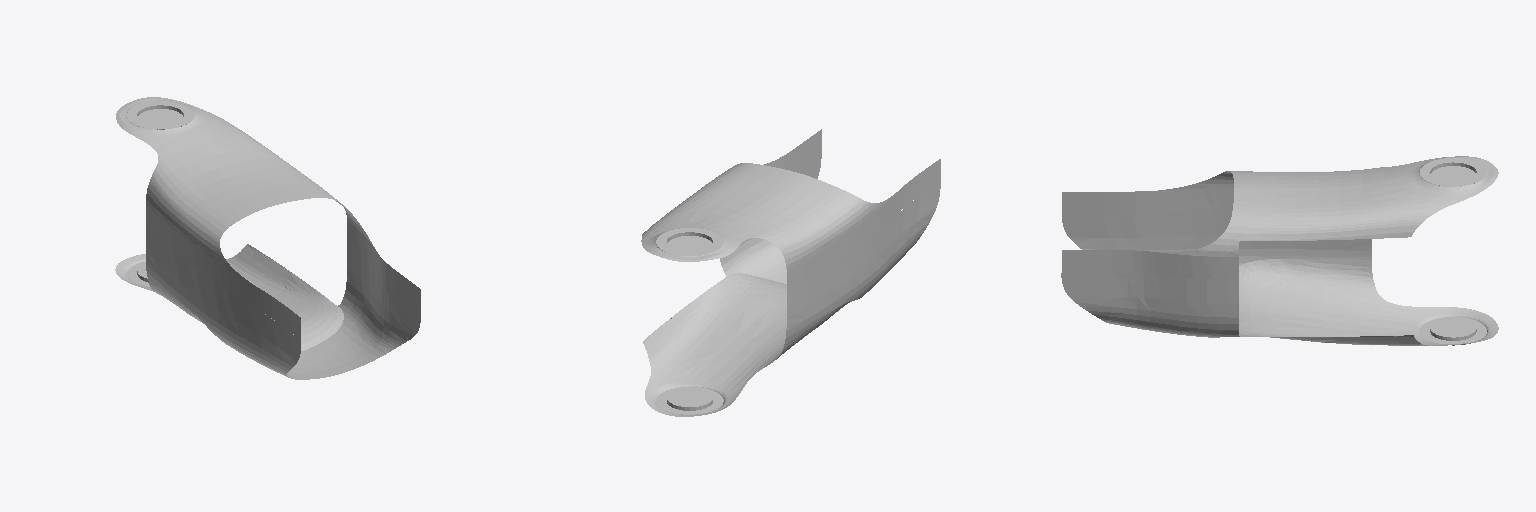
File: OberarmL_B.obj
3 views of the same model, side by side, from view 1: azimuth 30°, elevation 25°; view 2: azimuth 150°, elevation 25°; view 3: azimuth 270°, elevation 25° (orthographic).
Visible parts, largest first — view 1: Stamm|Minimal-OberarmL_(Standard)|Oberarm_links-1|Oberarm_links_; view 2: Stamm|Minimal-OberarmL_(Standard)|Oberarm_links-1|Oberarm_links_; view 3: Stamm|Minimal-OberarmL_(Standard)|Oberarm_links-1|Oberarm_links_.
Boxes of the visible parts, box(x1,y1,x2,y2) form: Stamm|Minimal-OberarmL_(Standard)|Oberarm_links-1|Oberarm_links_: box(115, 97, 420, 379); Stamm|Minimal-OberarmL_(Standard)|Oberarm_links-1|Oberarm_links_: box(641, 129, 940, 416); Stamm|Minimal-OberarmL_(Standard)|Oberarm_links-1|Oberarm_links_: box(1061, 156, 1498, 345).
Bounding box in the file's own units: 0.0981 × 0.1059 × 0.2641.